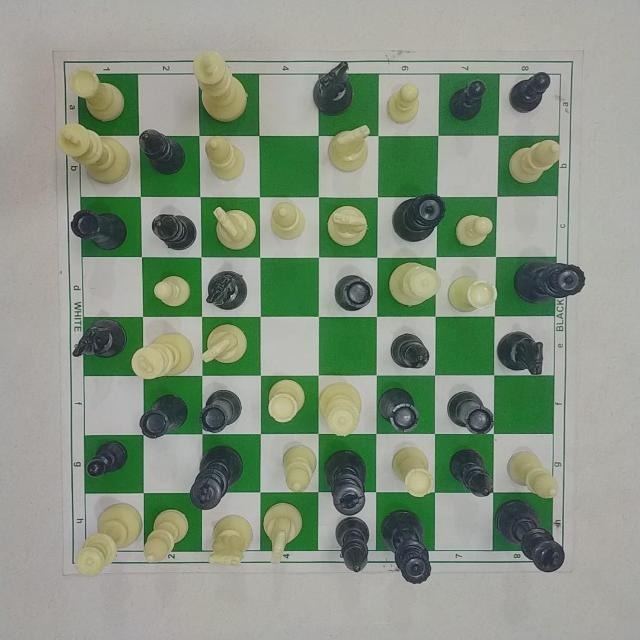black-bishop: (137, 128, 190, 179), (445, 446, 495, 500), (330, 513, 373, 574), (148, 208, 195, 253), (388, 332, 433, 371)
black-king: (493, 498, 569, 580), (185, 440, 247, 509), (323, 446, 373, 515)
black-knight: (64, 313, 128, 361), (497, 325, 549, 383), (309, 57, 353, 118), (202, 266, 247, 310)
black-pawn: (506, 69, 559, 117), (83, 436, 131, 484), (447, 76, 487, 128)
black-queen: (372, 507, 433, 587), (509, 255, 594, 307), (389, 188, 447, 241)
black-rook: (65, 206, 131, 256), (446, 383, 496, 439), (135, 389, 187, 441), (377, 384, 423, 434), (199, 387, 243, 436), (332, 271, 376, 316)
white-bishop: (506, 135, 566, 191), (507, 442, 563, 501), (143, 505, 193, 569), (202, 136, 247, 184), (282, 440, 321, 495), (267, 200, 306, 242)
white-king: (57, 123, 134, 188), (185, 50, 247, 127), (129, 329, 194, 386)
white-knight: (200, 510, 256, 567), (259, 500, 306, 562), (203, 202, 260, 252), (203, 316, 251, 373), (326, 120, 374, 170), (324, 203, 368, 251)
white-pawn: (383, 80, 425, 128), (152, 267, 196, 309), (454, 209, 496, 249)
white-queen: (67, 499, 144, 581), (386, 259, 439, 311), (316, 381, 364, 437)
white-rook: (66, 64, 127, 123), (388, 441, 436, 498), (446, 272, 498, 318), (267, 377, 307, 425)
